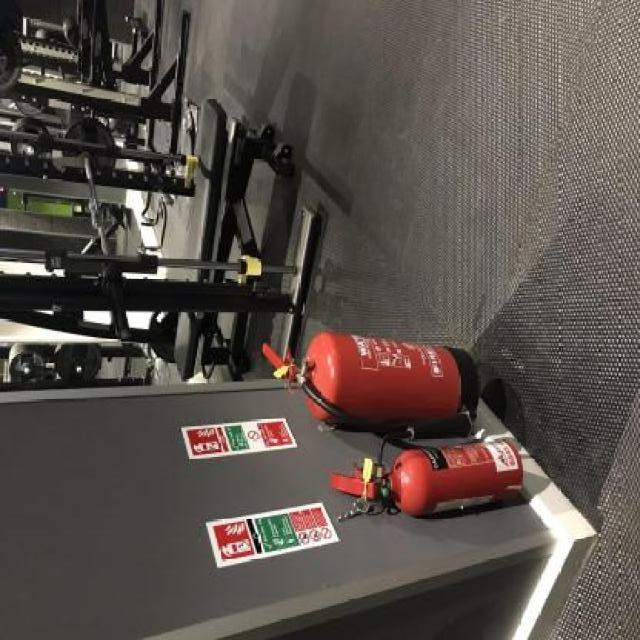fire extinguisher: (265, 332, 480, 432), (330, 411, 524, 518)
